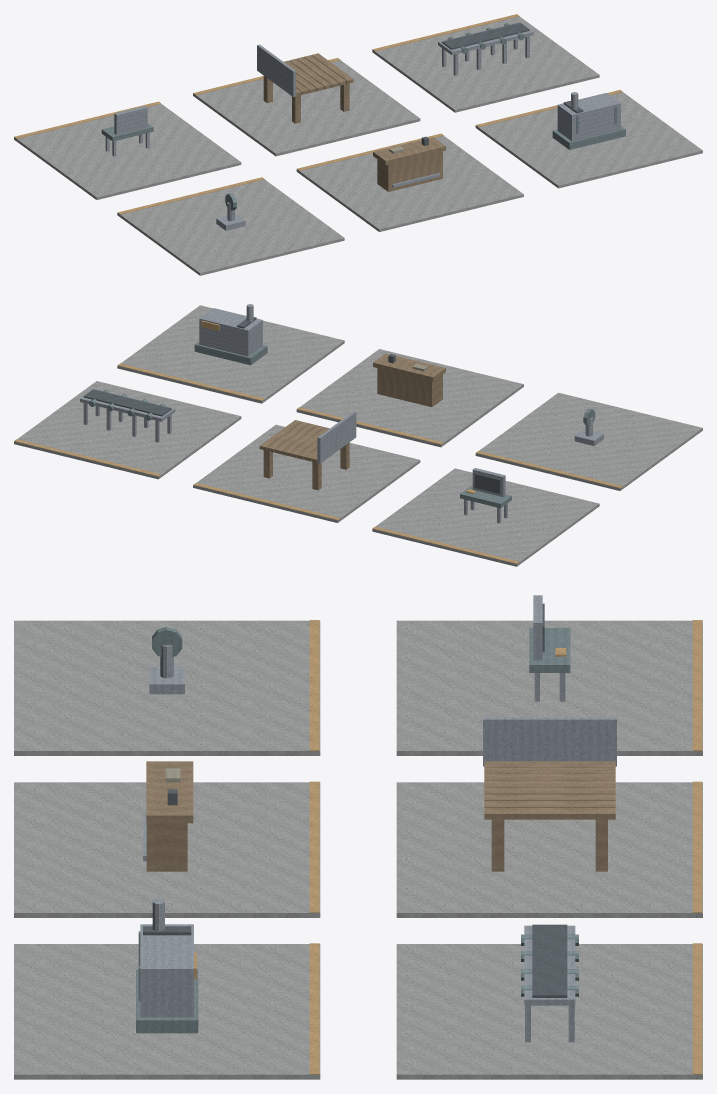
File: level_blockout_kit_wld_15_p01.glb
3 views of the same model, one above another, from view 1: azimuth 30°, elevation 25°; view 2: azimuth 150°, elevation 25°; view 3: azimuth 270°, elevation 25° (orthographic). The views are drawn at different scales.
Visible parts, largest first — view 1: level_blockout_kit_wld_15_p01; view 2: level_blockout_kit_wld_15_p01; view 3: level_blockout_kit_wld_15_p01.
Boxes of the visible parts, x1,y1,x2,y2 form: level_blockout_kit_wld_15_p01: (14,14,702,275); level_blockout_kit_wld_15_p01: (14,304,702,566); level_blockout_kit_wld_15_p01: (14,595,702,1079).
Bounding box in the file's own units: 19.65 × 2.16 × 12.6.
Materials: 7 (7 with a texture image).
